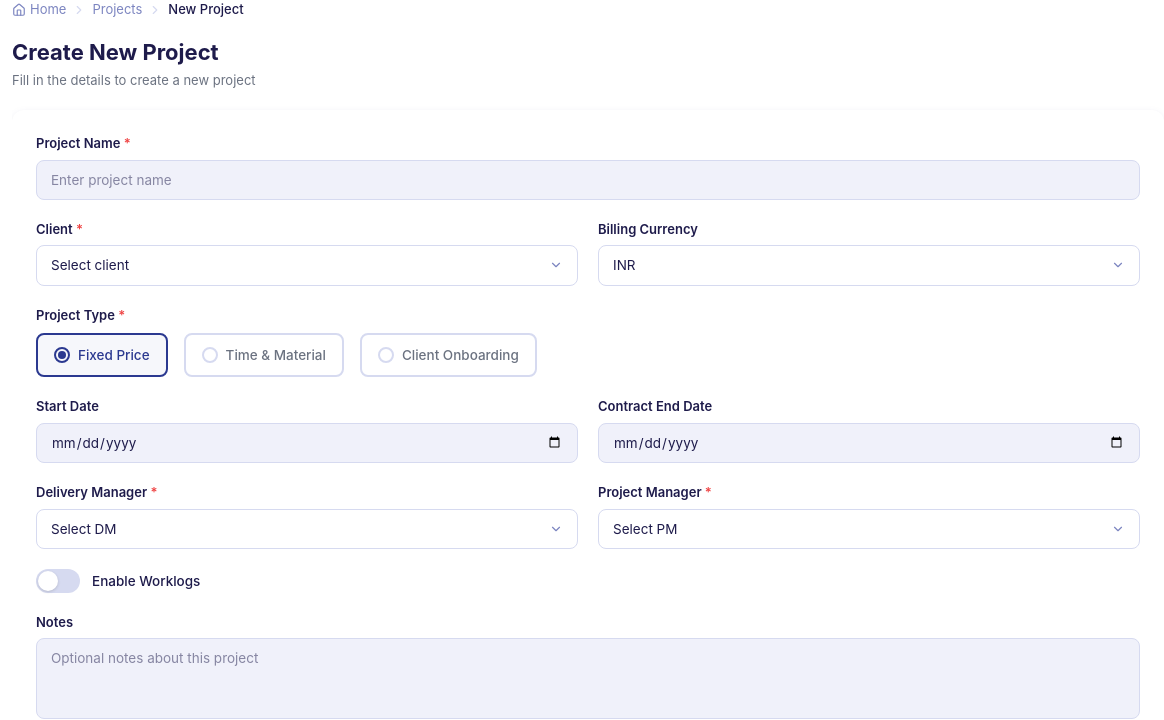
Scenario: ProjectForm › shows contract end date required for T&M
The image size is (1164, 720).
Click the radio button "Time & Material" at (264, 355), box [184,333,344,377]
(page scrolled)
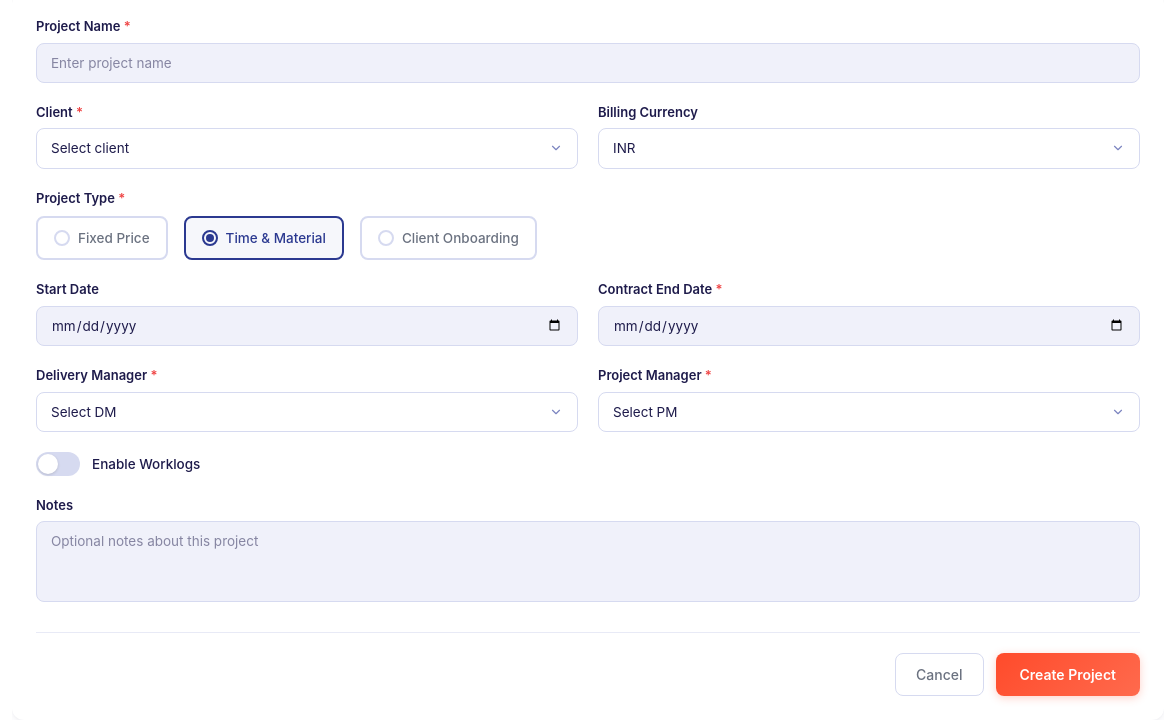
Click the button "Create Project" at (1068, 674), box [996,653,1140,696]
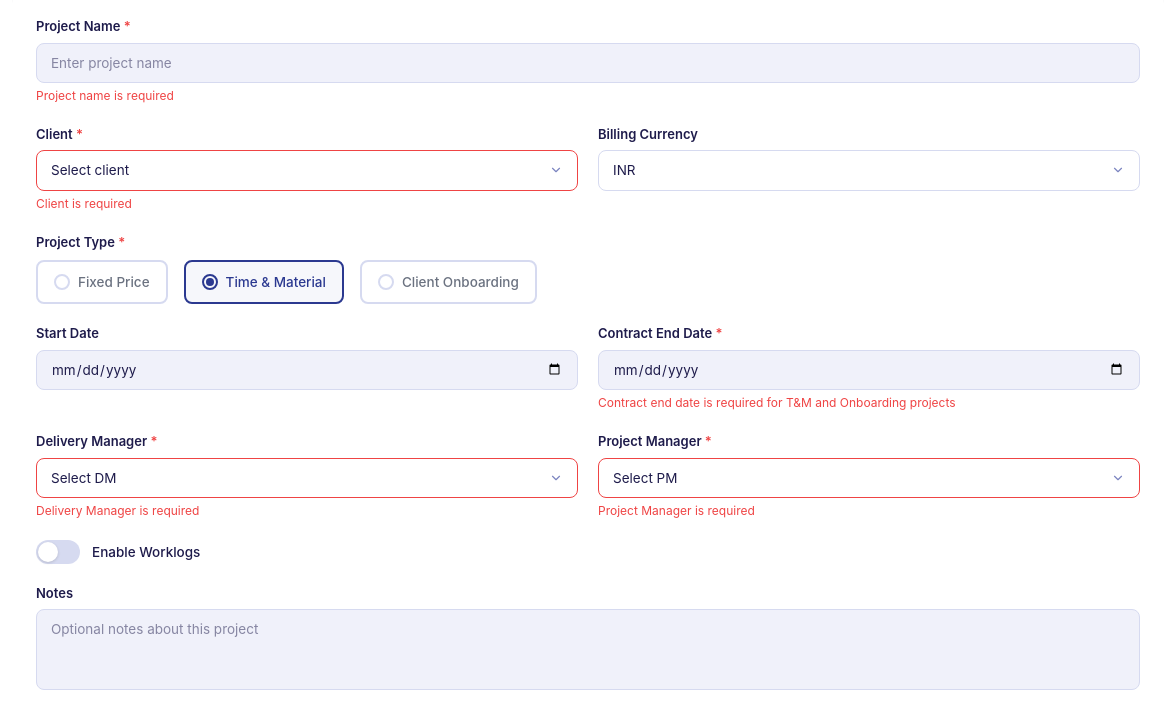
Expected: the text "Contract end date is required" is shown, [598,395,956,410]
